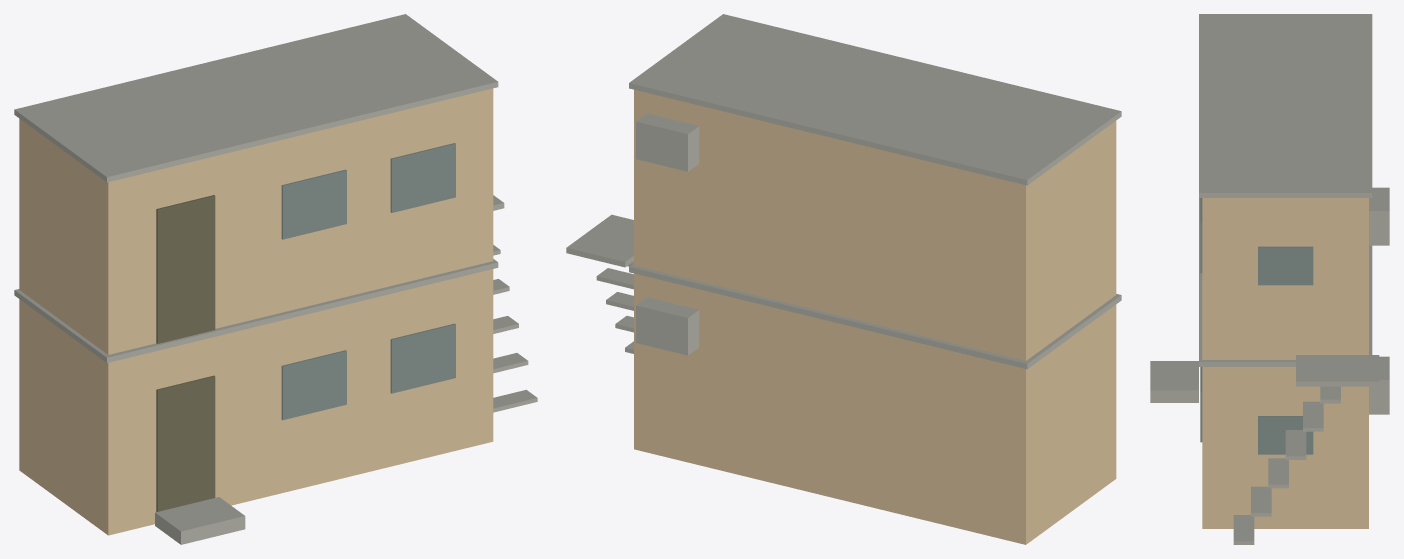
File: SM_Caseta_v2_Apiladas_LOD0.fbx
3 views of the same model, side by side, from view 1: azimuth 30°, elevation 25°; view 2: azimuth 150°, elevation 25°; view 3: azimuth 270°, elevation 25° (orthographic). The views are drawn at different scales.
Visible parts, largest first — view 1: SM_ambiente_aerodromo_v12_LOD0; view 2: SM_ambiente_aerodromo_v12_LOD0; view 3: SM_ambiente_aerodromo_v12_LOD0.
Part boxes in pixels (x1=…): SM_ambiente_aerodromo_v12_LOD0: x1=14, y1=14, x2=537, y2=544; SM_ambiente_aerodromo_v12_LOD0: x1=566, y1=14, x2=1121, y2=544; SM_ambiente_aerodromo_v12_LOD0: x1=1150, y1=14, x2=1389, y2=544.
Size of the model in its own units: 7 by 5.37 by 3.45.
